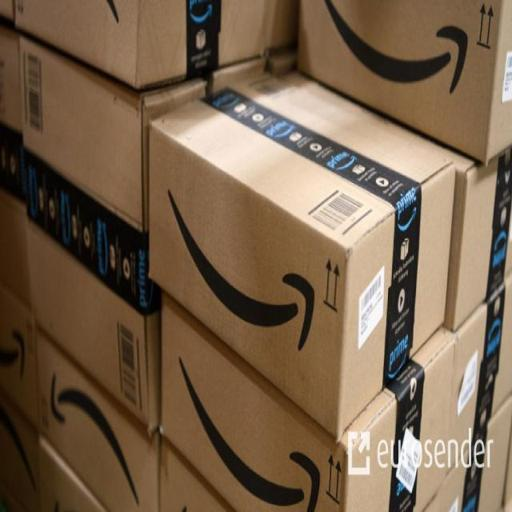Amazon: (149, 72, 472, 423), (162, 295, 470, 512), (18, 44, 160, 413), (301, 0, 512, 158), (34, 339, 162, 511), (11, 0, 282, 81), (462, 165, 512, 301), (466, 305, 512, 415), (469, 418, 512, 512), (0, 412, 40, 512)
